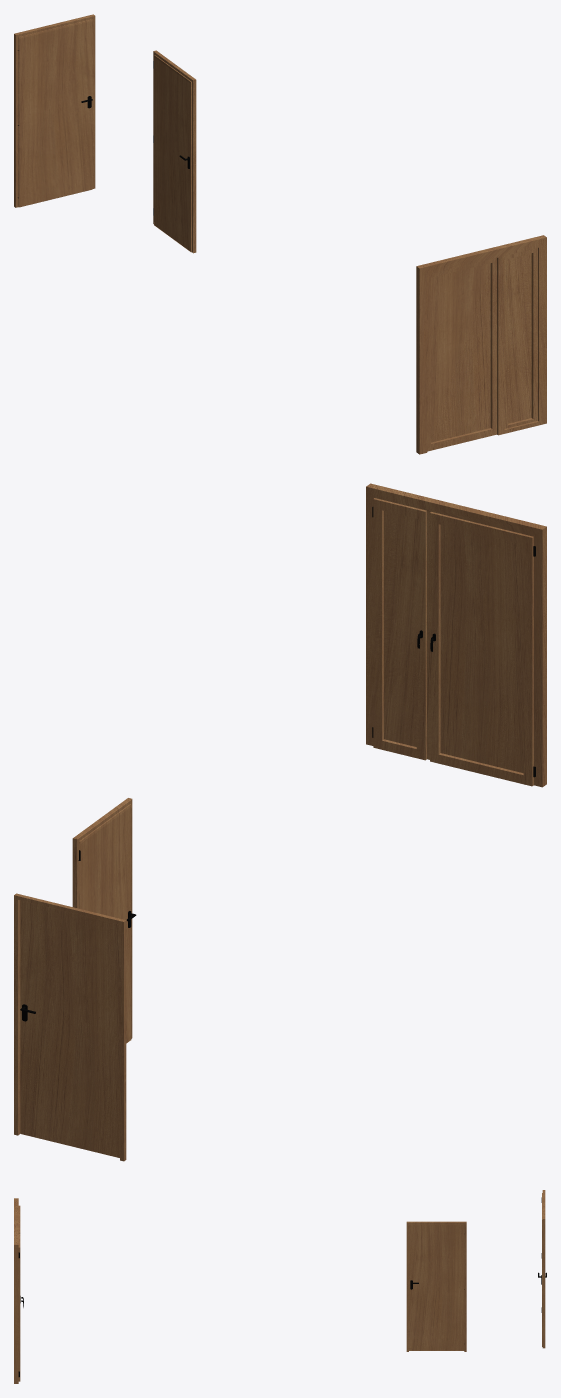
Rendered from Doors.gltf.
The picture shows the model from 3 angles, top to bottom: view 1: azimuth 30°, elevation 25°; view 2: azimuth 150°, elevation 25°; view 3: azimuth 270°, elevation 25°; orthographic projection. The views are drawn at different scales.
Parts seen in each view (by area): view 1: Door02, Door01, Bathroom_door; view 2: Door02, Door01, Bathroom_door; view 3: Bathroom_door, Door02, Door01.
Part boxes in pixels (x1,y1,x2,y2): Door02: [416, 235, 546, 454]; Door01: [14, 14, 95, 207]; Bathroom_door: [153, 50, 196, 253]; Door02: [366, 483, 546, 787]; Door01: [14, 893, 126, 1161]; Bathroom_door: [72, 798, 132, 1043]; Bathroom_door: [406, 1221, 466, 1351]; Door02: [14, 1198, 20, 1383]; Door01: [542, 1190, 545, 1348].
Bounding box in the file's own units: 2.26 × 2.26 × 7.85.
2 materials, 1 textured.
